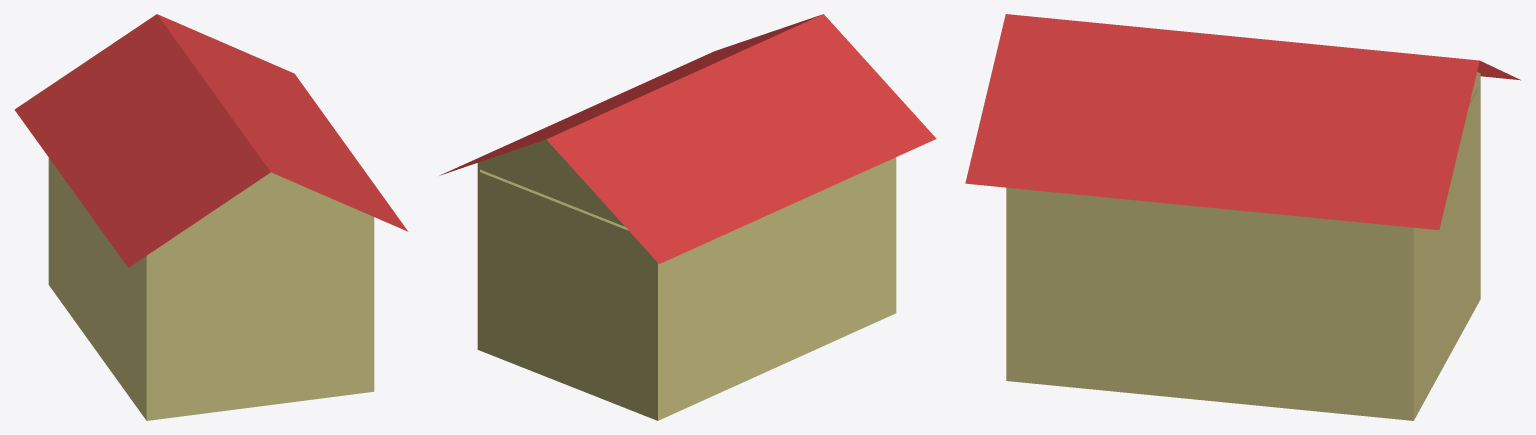
3 views of the same model, side by side, from view 1: azimuth 30°, elevation 25°; view 2: azimuth 150°, elevation 25°; view 3: azimuth 270°, elevation 25° (orthographic). The views are drawn at different scales.
Size of the model in its own units: 13.58 by 16.26 by 9.81.
